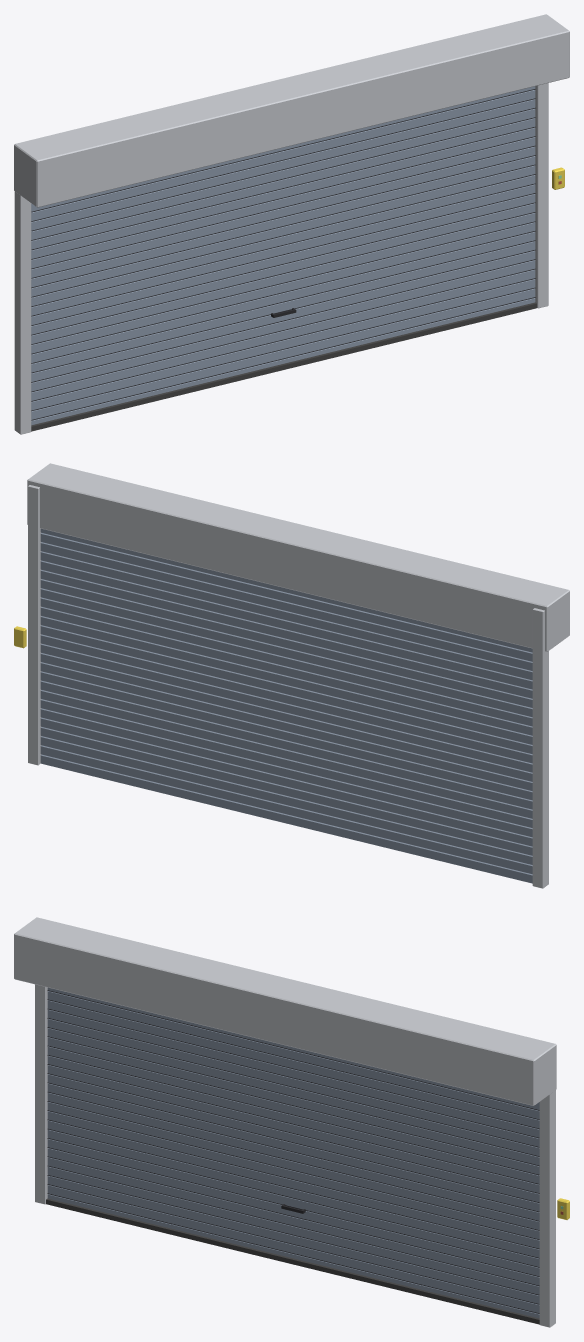
Rendered from rollup_door.fbx.
The picture shows the model from 3 angles, top to bottom: view 1: azimuth 30°, elevation 25°; view 2: azimuth 150°, elevation 25°; view 3: azimuth 330°, elevation 25°; orthographic projection. The views are drawn at different scales.
Parts seen in each view (by area): view 1: Door; view 2: Door; view 3: Door.
Boxes of the visible parts, box(x1,y1,x2,y2) form: Door: box(14, 14, 569, 434); Door: box(14, 463, 569, 888); Door: box(14, 917, 569, 1327).
Bounding box in the file's own units: 6.06 × 3.05 × 0.485.
